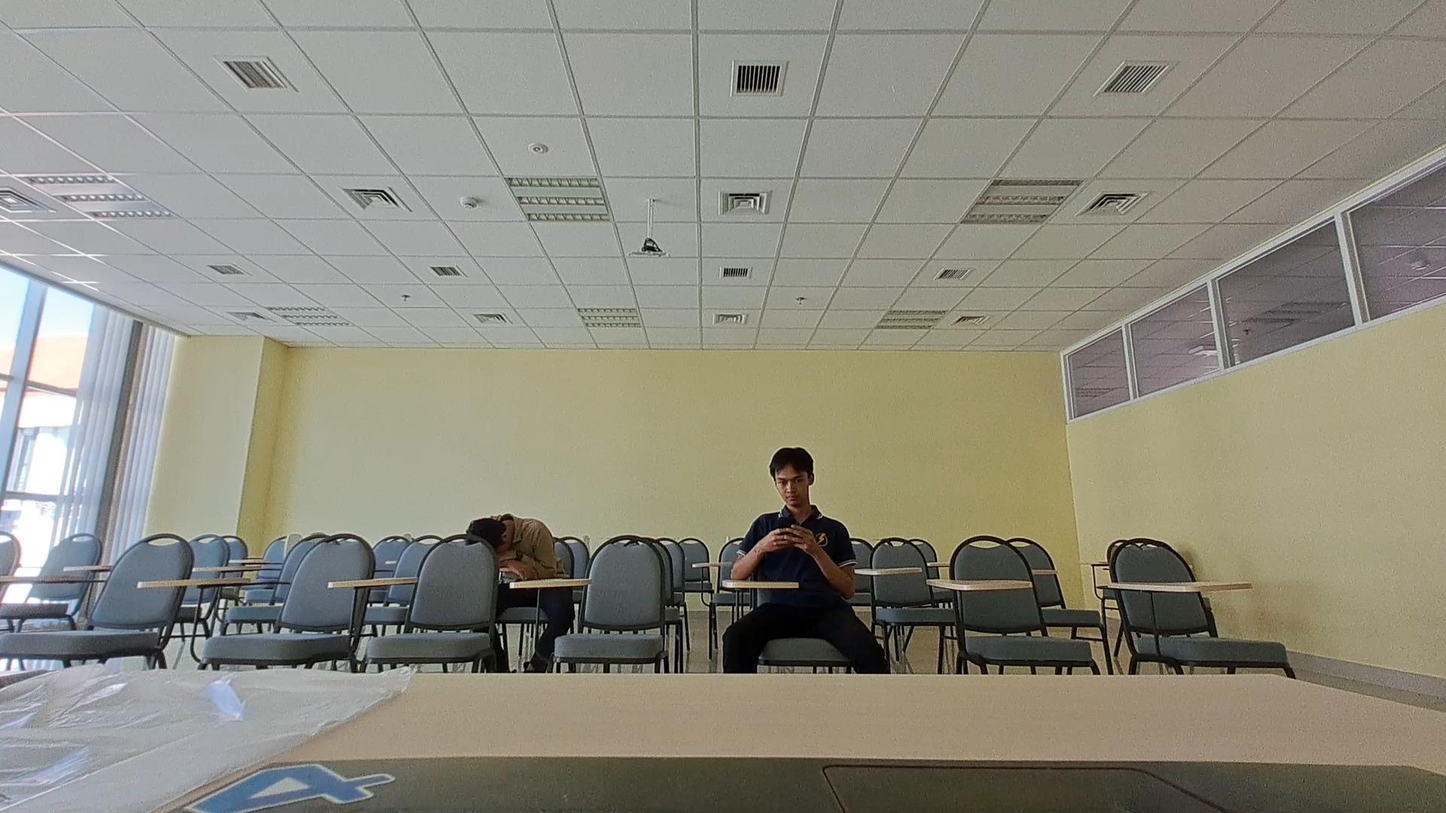phone: (730, 443, 851, 587)
sleep: (458, 507, 561, 583)
